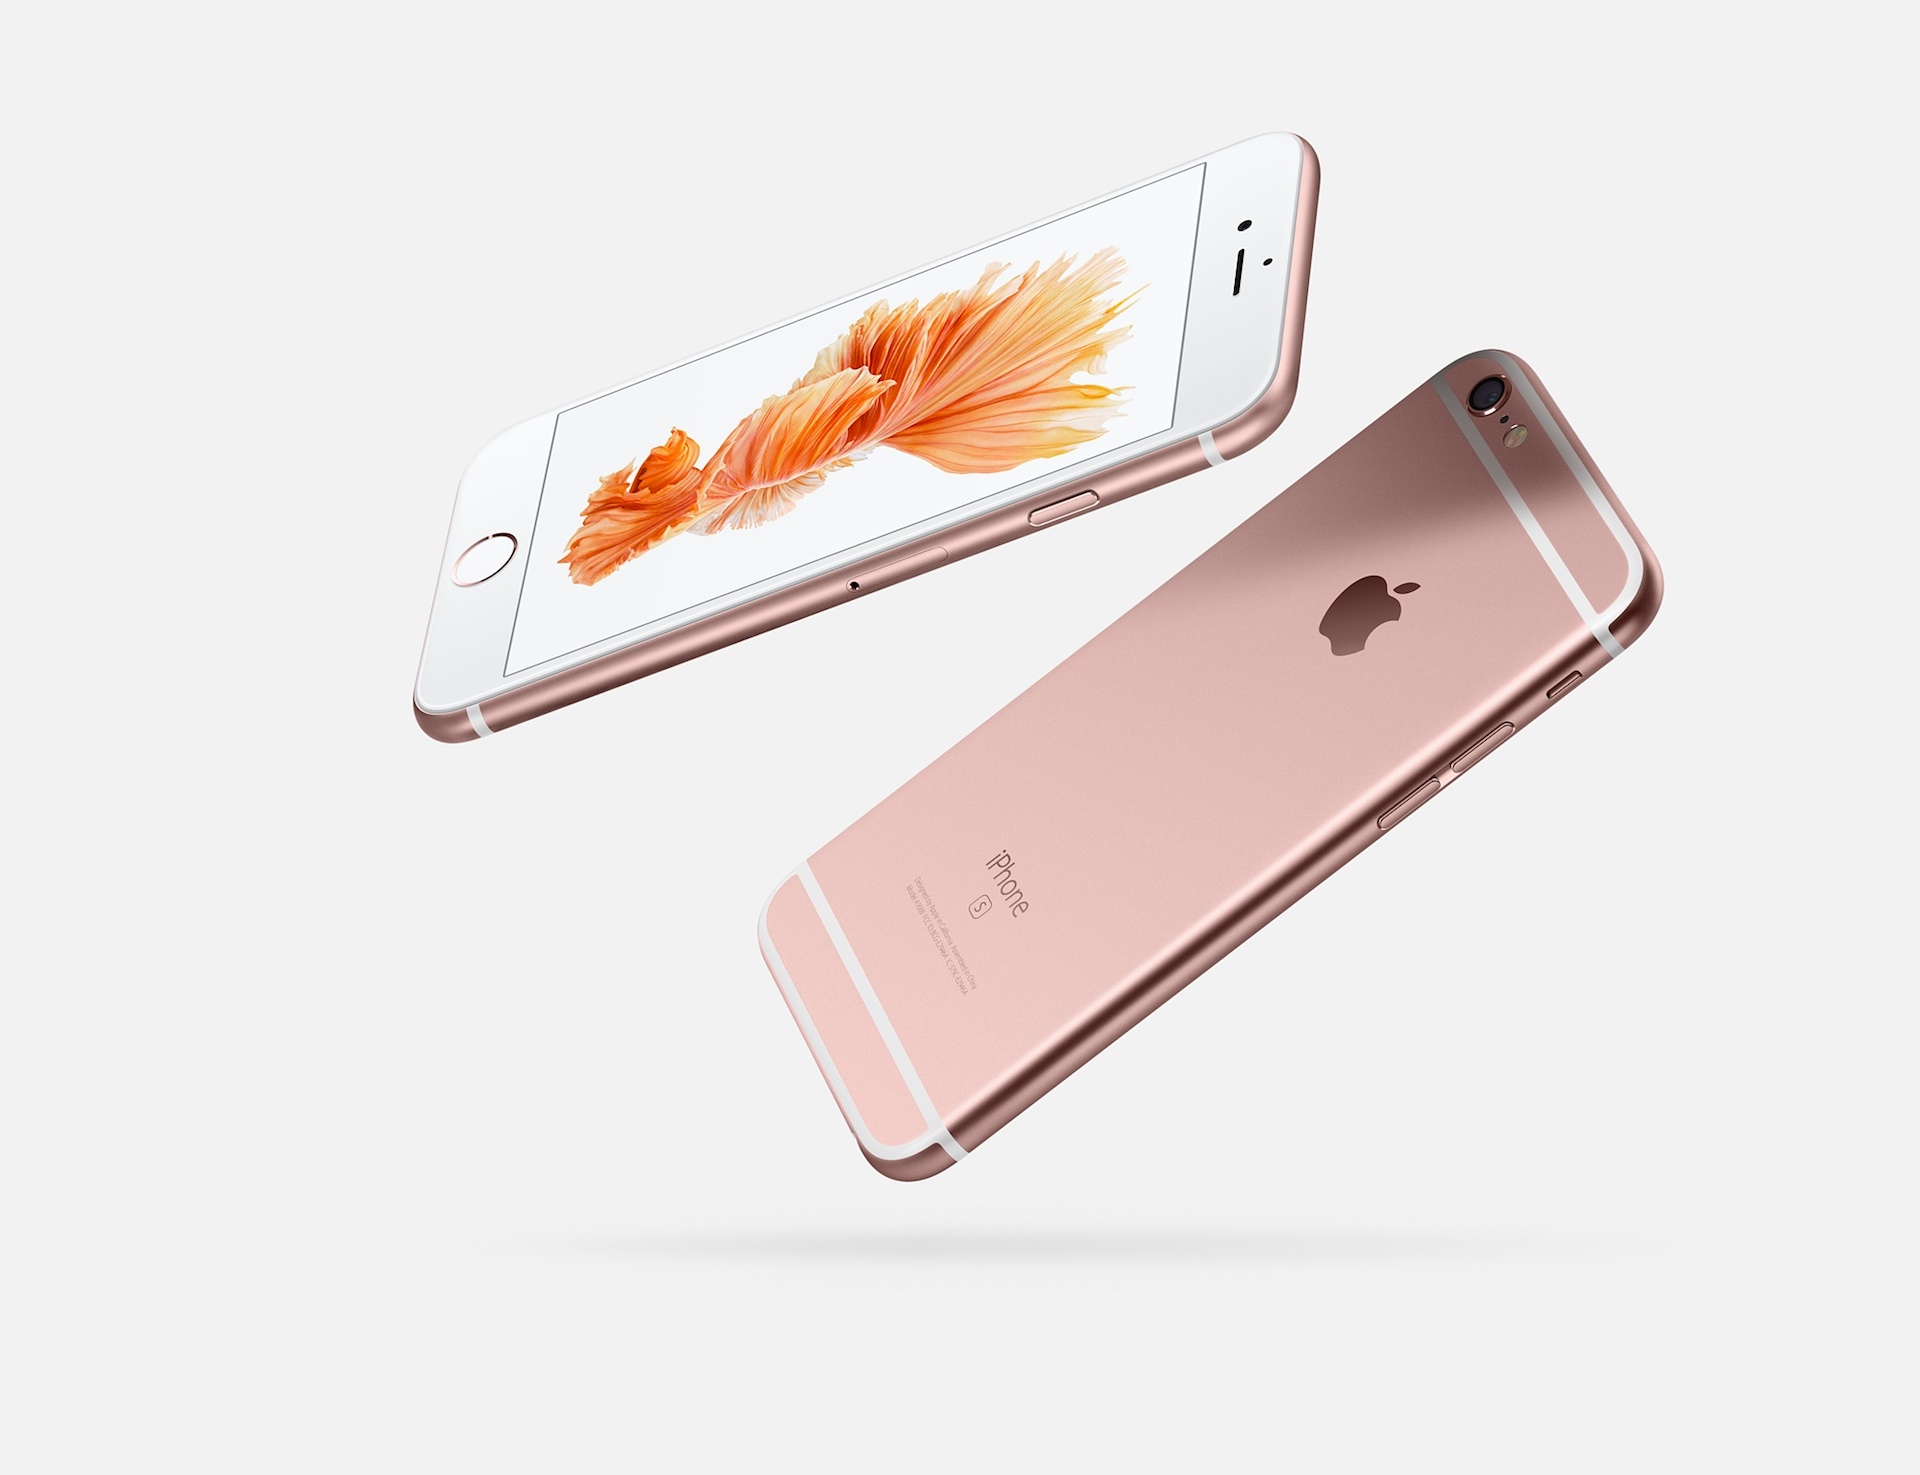smartphone: (758, 346, 1672, 1188), (408, 127, 1328, 745)
